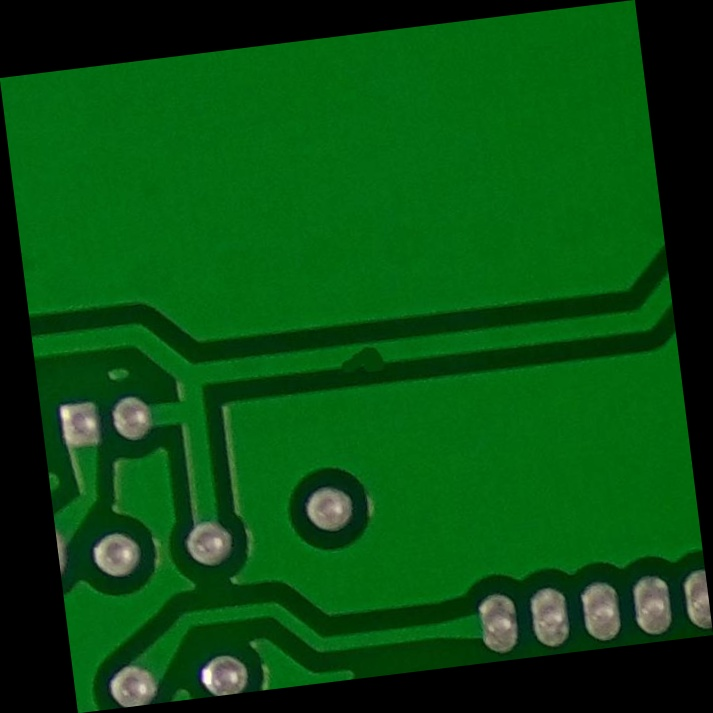mouse_bite: (316, 327, 397, 386)
